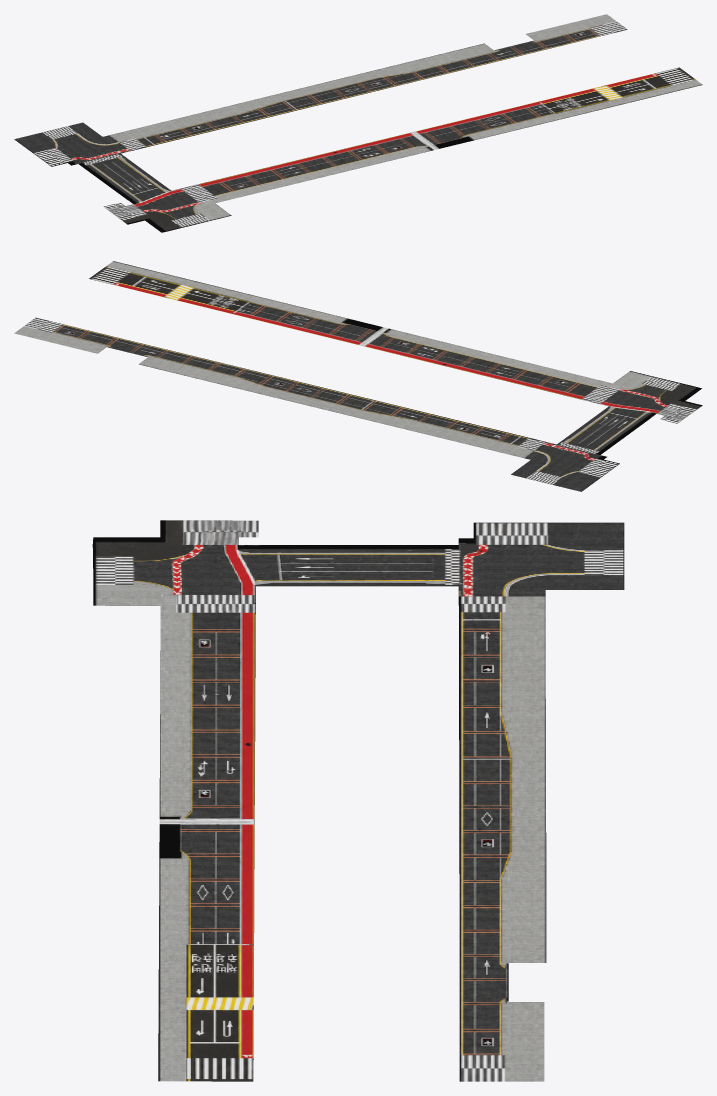
Rendered from Road_1.fbx.
The picture shows the model from 3 angles, top to bottom: view 1: azimuth 30°, elevation 25°; view 2: azimuth 150°, elevation 25°; view 3: azimuth 270°, elevation 25°; orthographic projection. The views are drawn at different scales.
Parts seen in each view (by area): view 1: Plane; view 2: Plane; view 3: Plane.
Part boxes in pixels (left/top/right/bottom): Plane: left=14, top=14, right=702, bottom=232; Plane: left=14, top=261, right=702, bottom=491; Plane: left=92, top=520, right=624, bottom=1081.
Size of the model in its own units: 406 by 2.65e-05 by 162.
1 material, 1 textured.
